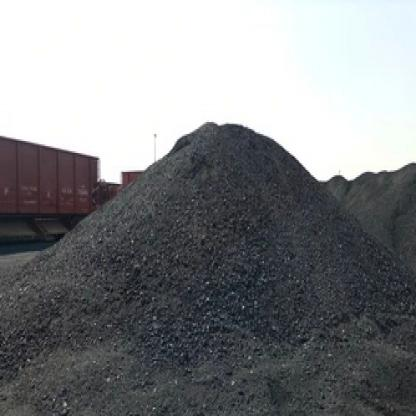Sedimentary_coal: (166, 246, 279, 409)
